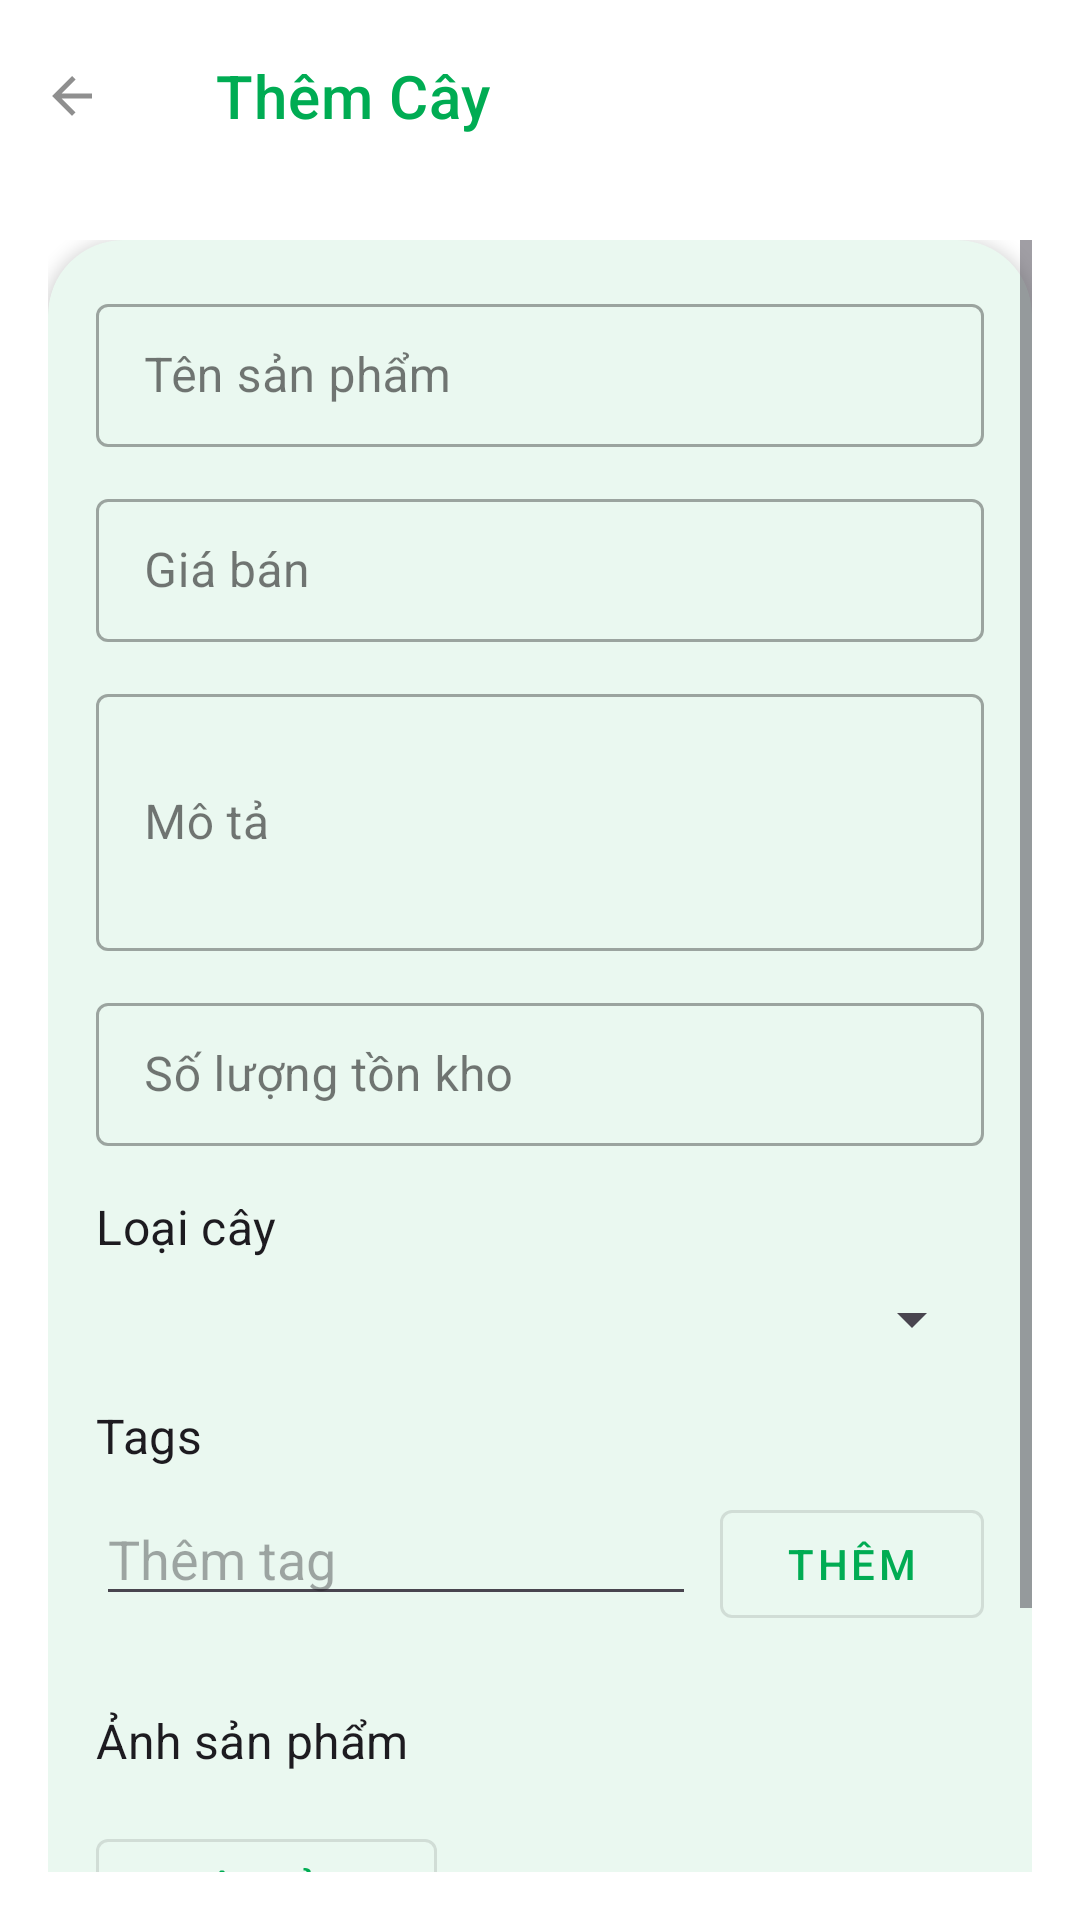

Icons on this 1080x1920 Android screen, each with its box as box=[x1, y1, x2, y2]:
back arrow: box=[52, 76, 92, 116]
